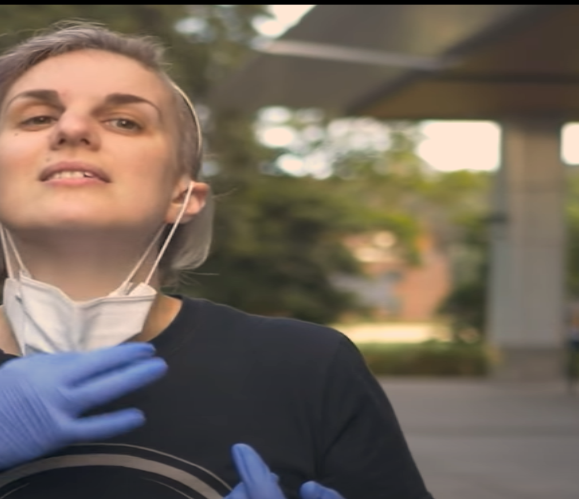mask_weared_incorrect: (1, 19, 208, 348)
